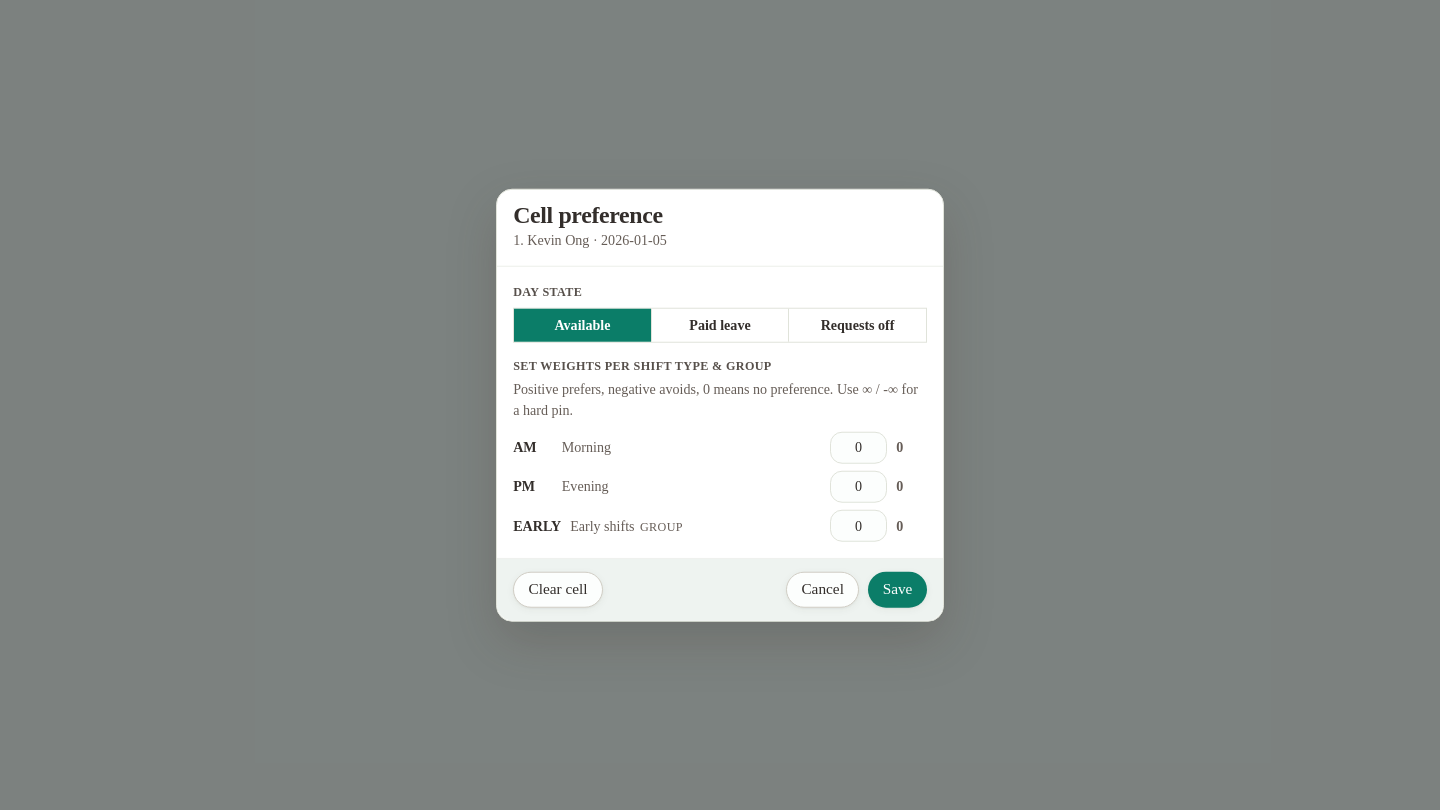
Scenario: CellPreferenceEditor — seeding from existing cells › the Off tab note states the truthful weight semantics in a neutral box
Click the tab with test id "cell-editor-tab-off". click: click(857, 325)
box: [788,309,926,341]
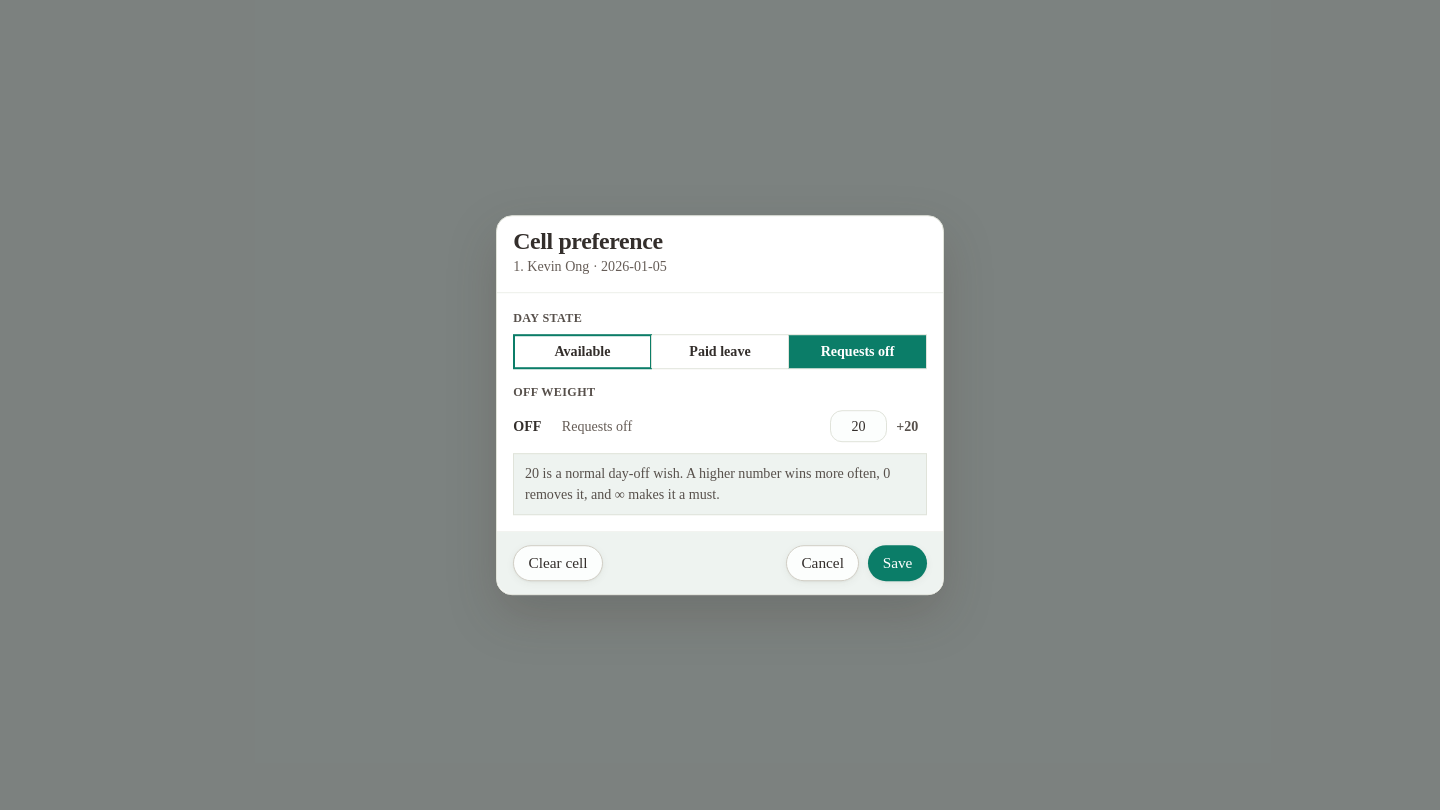
Expected: the text with test id "cell-editor-off-note" shows "20 is a normal day-off wish. A higher number wins more often, 0 removes it, and ∞ makes it a must.", [513,453,927,515]
